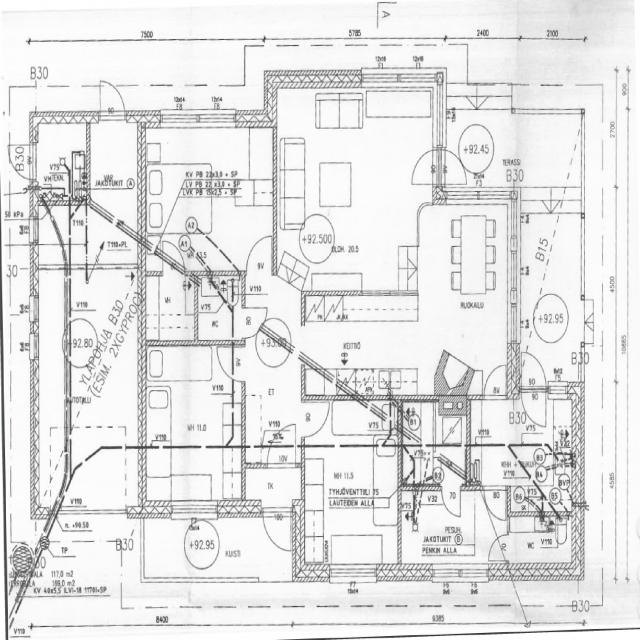door: (263, 500, 291, 556), (432, 150, 471, 183), (408, 150, 446, 183), (267, 424, 295, 468), (4, 144, 38, 180), (523, 349, 546, 400), (523, 382, 546, 432), (100, 78, 124, 123), (217, 348, 246, 382), (246, 237, 271, 275), (301, 402, 328, 436), (242, 307, 268, 338), (484, 486, 506, 521), (163, 242, 184, 276), (484, 366, 505, 400), (488, 534, 511, 560), (442, 484, 460, 517)
